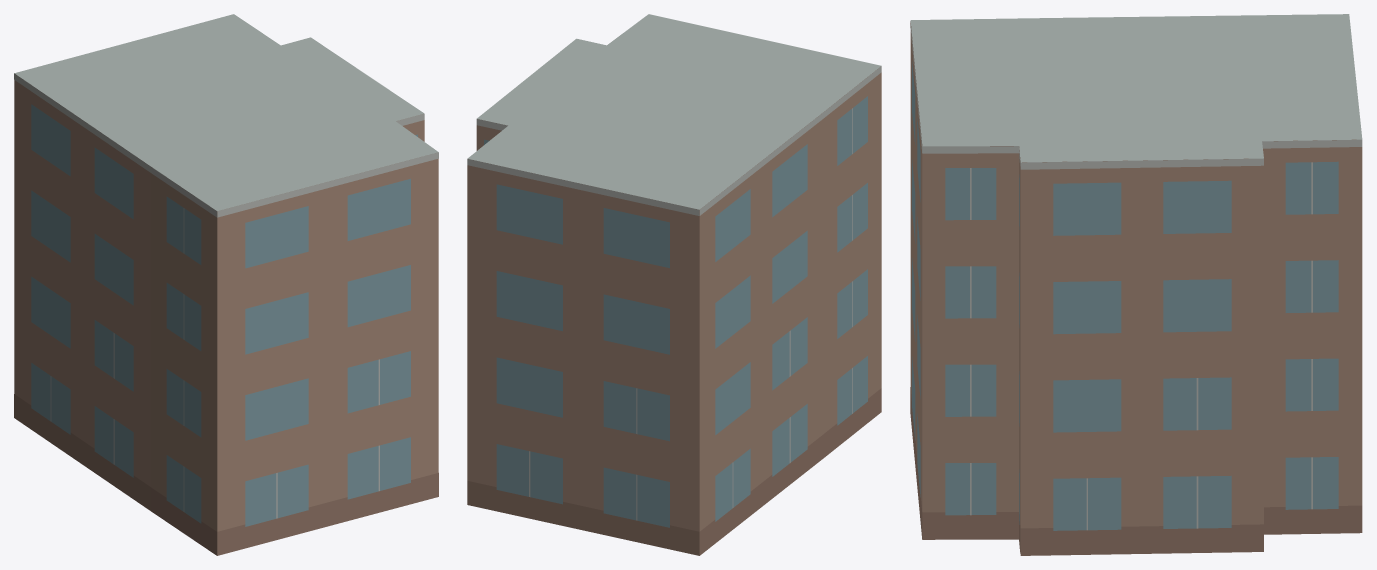
File: survey-upis-33032318.glb
The picture shows the model from 3 angles, left to right: view 1: azimuth 30°, elevation 25°; view 2: azimuth 150°, elevation 25°; view 3: azimuth 270°, elevation 25°; orthographic projection. The views are drawn at different scales.
Parts seen in each view (by area): view 1: survey-upis-33032318.tmp; view 2: survey-upis-33032318.tmp; view 3: survey-upis-33032318.tmp.
Part boxes in pixels (box(x1,y1,x2,y2)): survey-upis-33032318.tmp: box(14, 14, 438, 555); survey-upis-33032318.tmp: box(467, 14, 881, 555); survey-upis-33032318.tmp: box(910, 14, 1362, 555).
Size of the model in its own units: 10.61 by 13.1 by 13.65.
